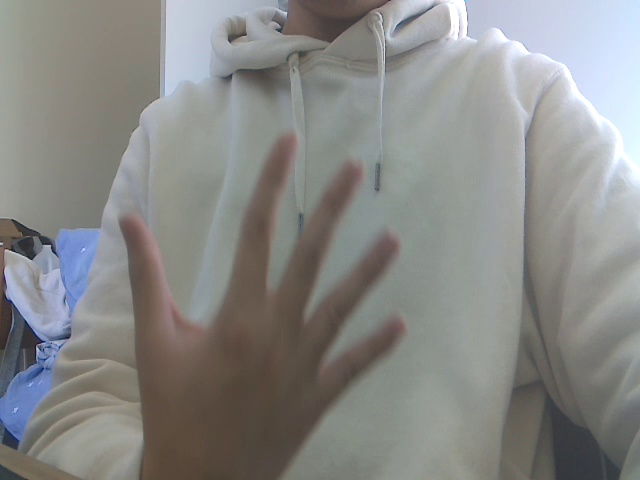hand_gesture_5: (72, 117, 462, 480)
